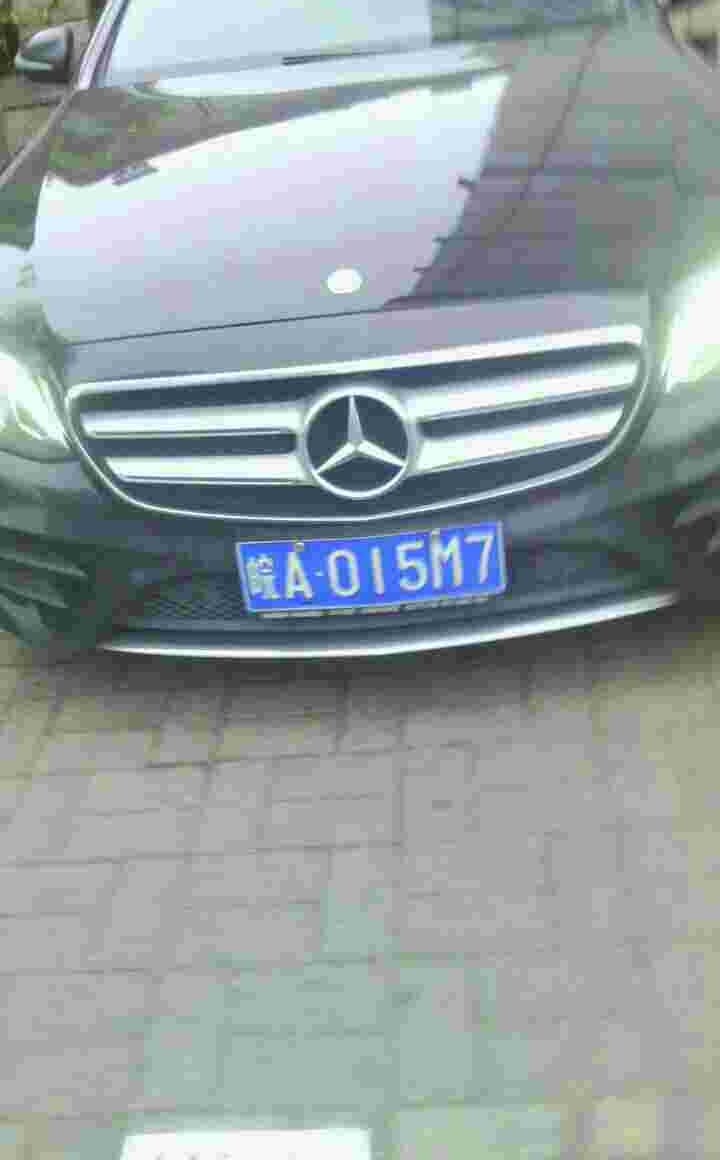license_plate: (251, 525, 508, 618)
